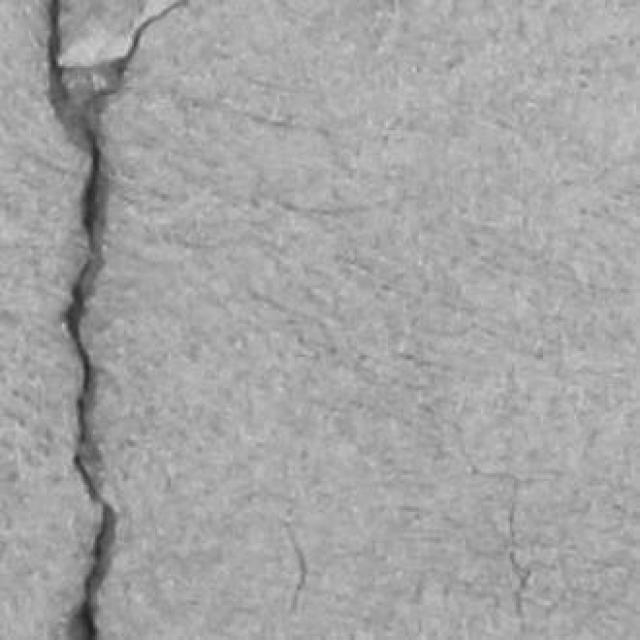crack: (47, 0, 186, 639), (49, 0, 116, 639), (286, 522, 308, 612)
